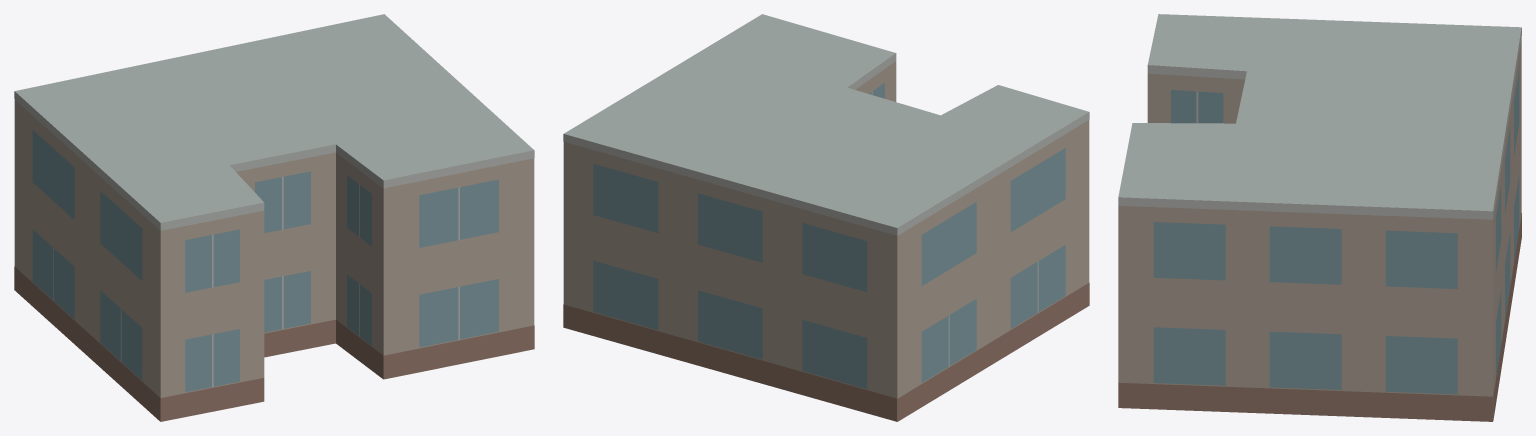
The model's file is survey-upis-32960783.glb.
3 renders of one model, left to right at view 1: azimuth 30°, elevation 25°; view 2: azimuth 150°, elevation 25°; view 3: azimuth 270°, elevation 25°, orthographic. The views are drawn at different scales.
Visible parts, largest first — view 1: survey-upis-32960783.tmp; view 2: survey-upis-32960783.tmp; view 3: survey-upis-32960783.tmp.
Boxes of the visible parts, x1,y1,x2,y2 form: survey-upis-32960783.tmp: [14, 14, 534, 421]; survey-upis-32960783.tmp: [563, 14, 1089, 421]; survey-upis-32960783.tmp: [1118, 14, 1521, 421].
Bounding box in the file's own units: 12.27 × 6.1 × 10.6.
